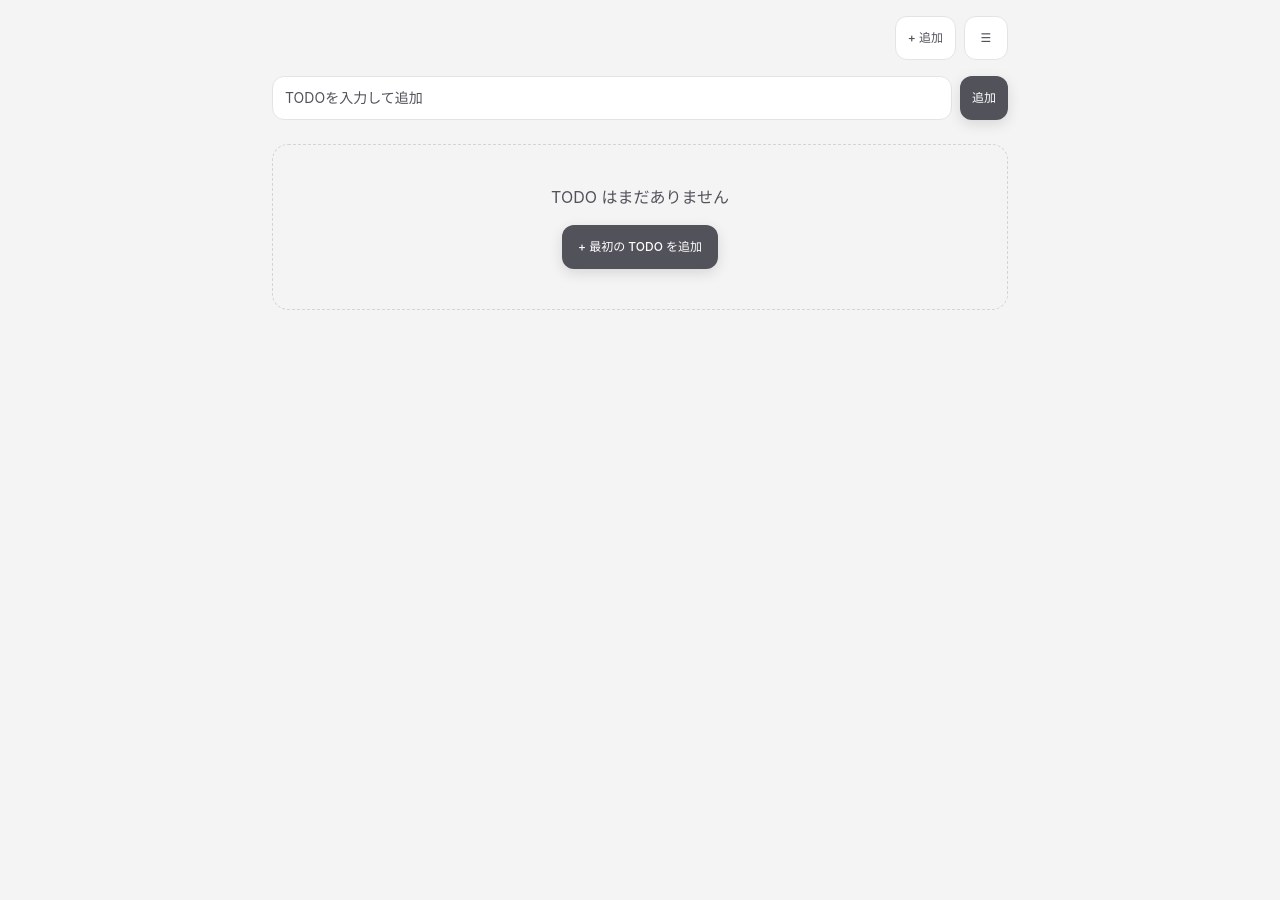
Test: TodoListPage › groups settings and display controls in a menu panel
Expected: the dialog "メニュー" is not shown
Click the button named "メニュー" at (986, 38), box [964,16,1008,60]
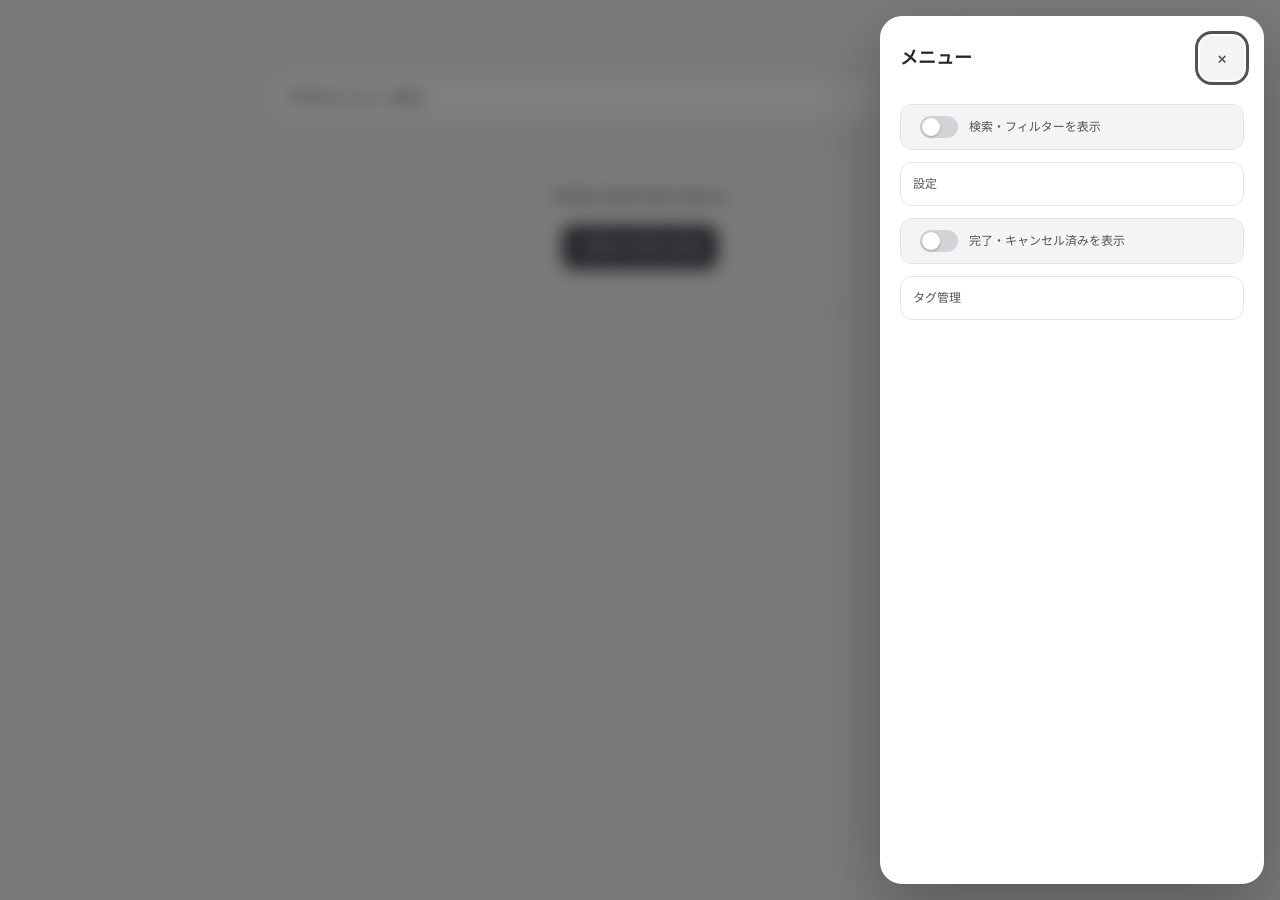
Result: the button "設定" is shown at [900,162,1244,206]
Result: the checkbox labelled "完了・キャンセル済みを表示" is shown at [920,230,1125,252]
Result: the button "タグ管理" is shown at [900,276,1244,320]
Press Escape
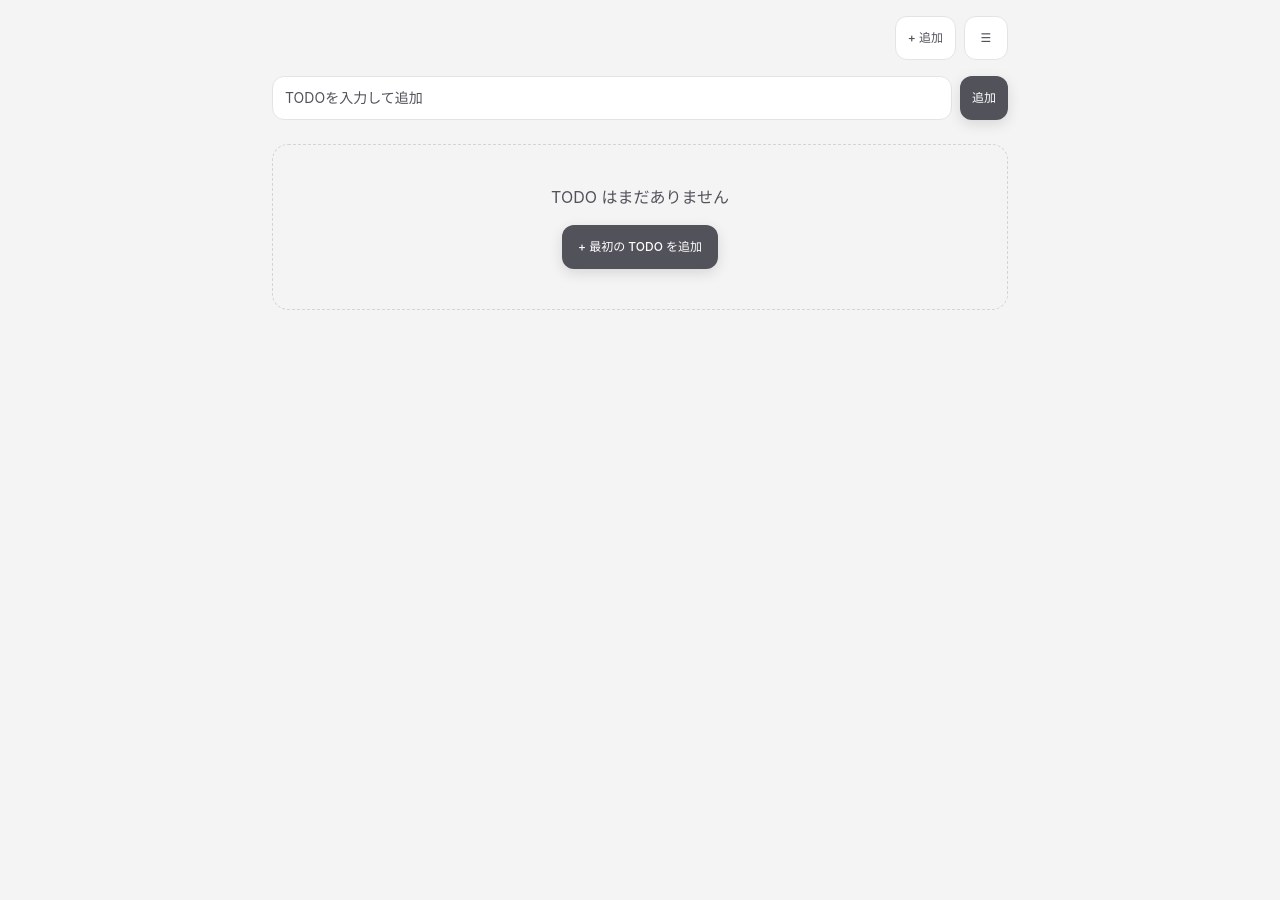
Result: the heading "メニュー" is gone
